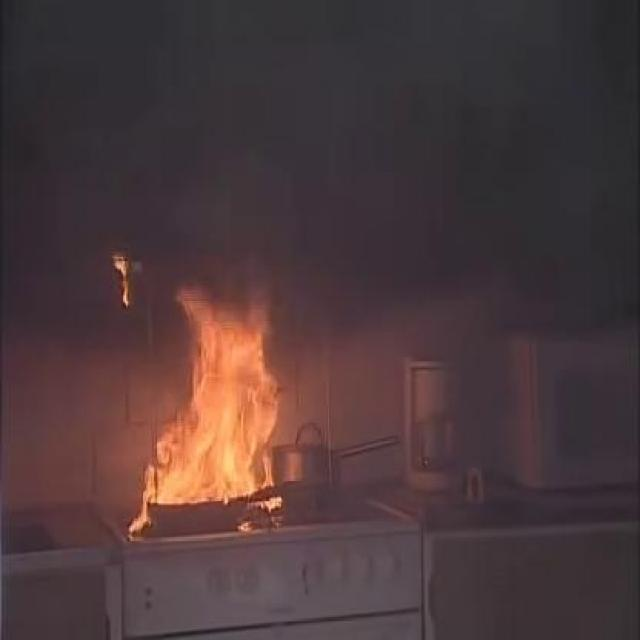fire: (102, 238, 281, 544)
